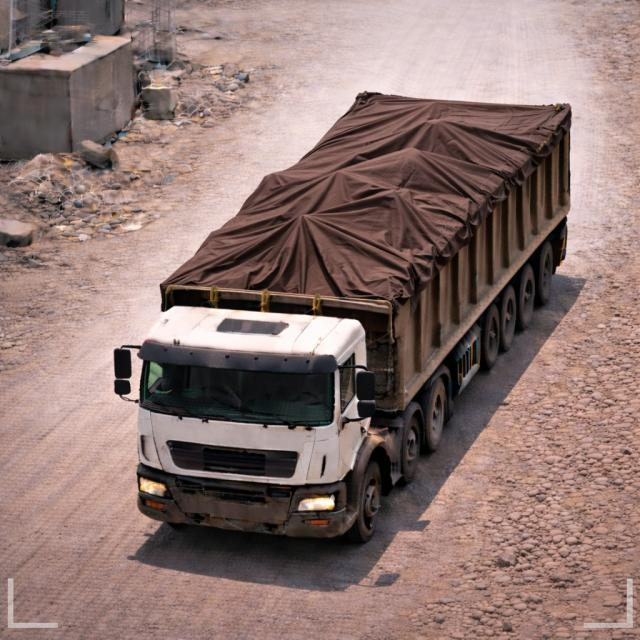Box: (154, 89, 570, 306)
Truck: (113, 78, 595, 545)
